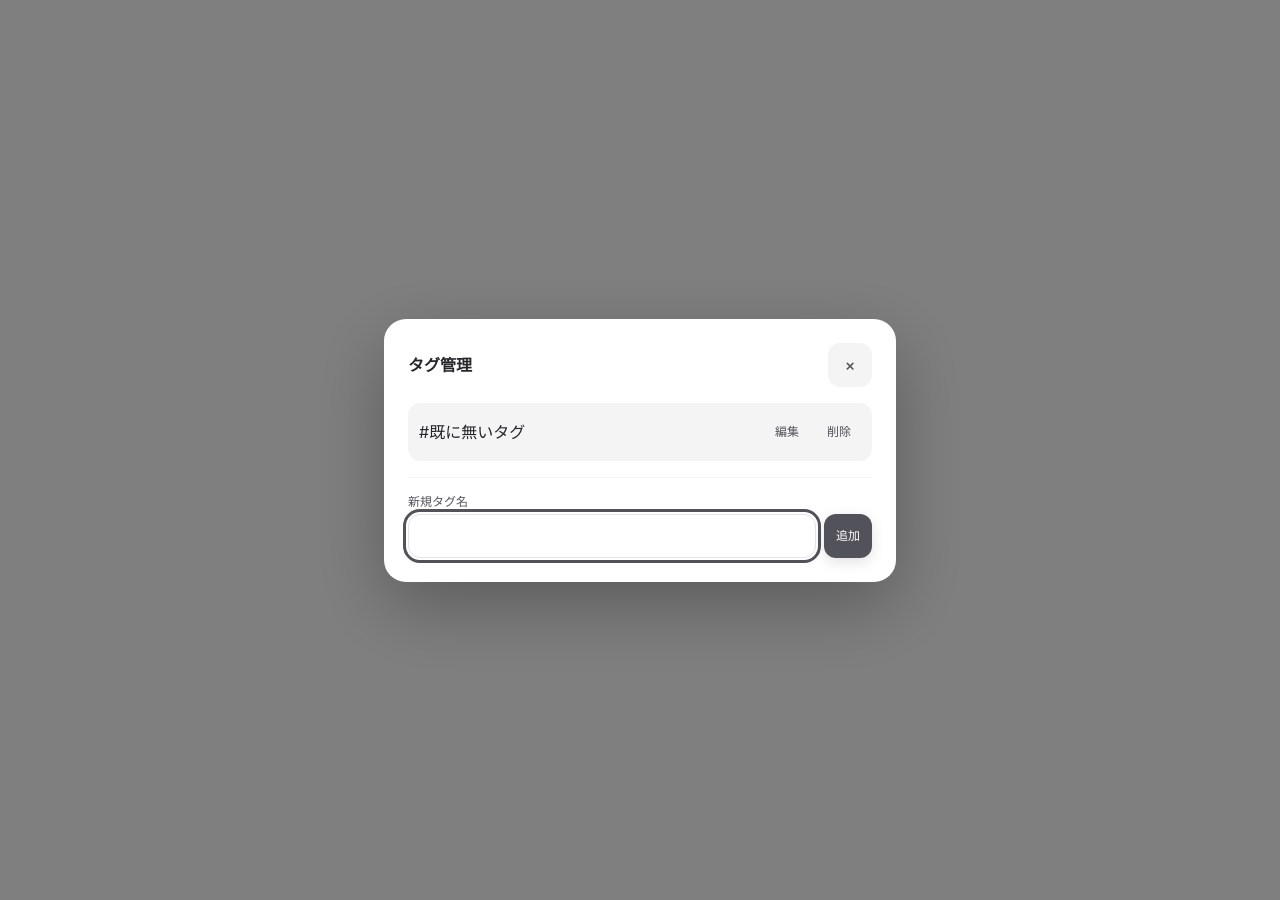
Scenario: TagManagementModal › shows a toast and refetches when the delete target no longer exists (404)
Click the button with aria-label "「既に無いタグ」を削除".
click(839, 432)  # box [817,410,861,454]
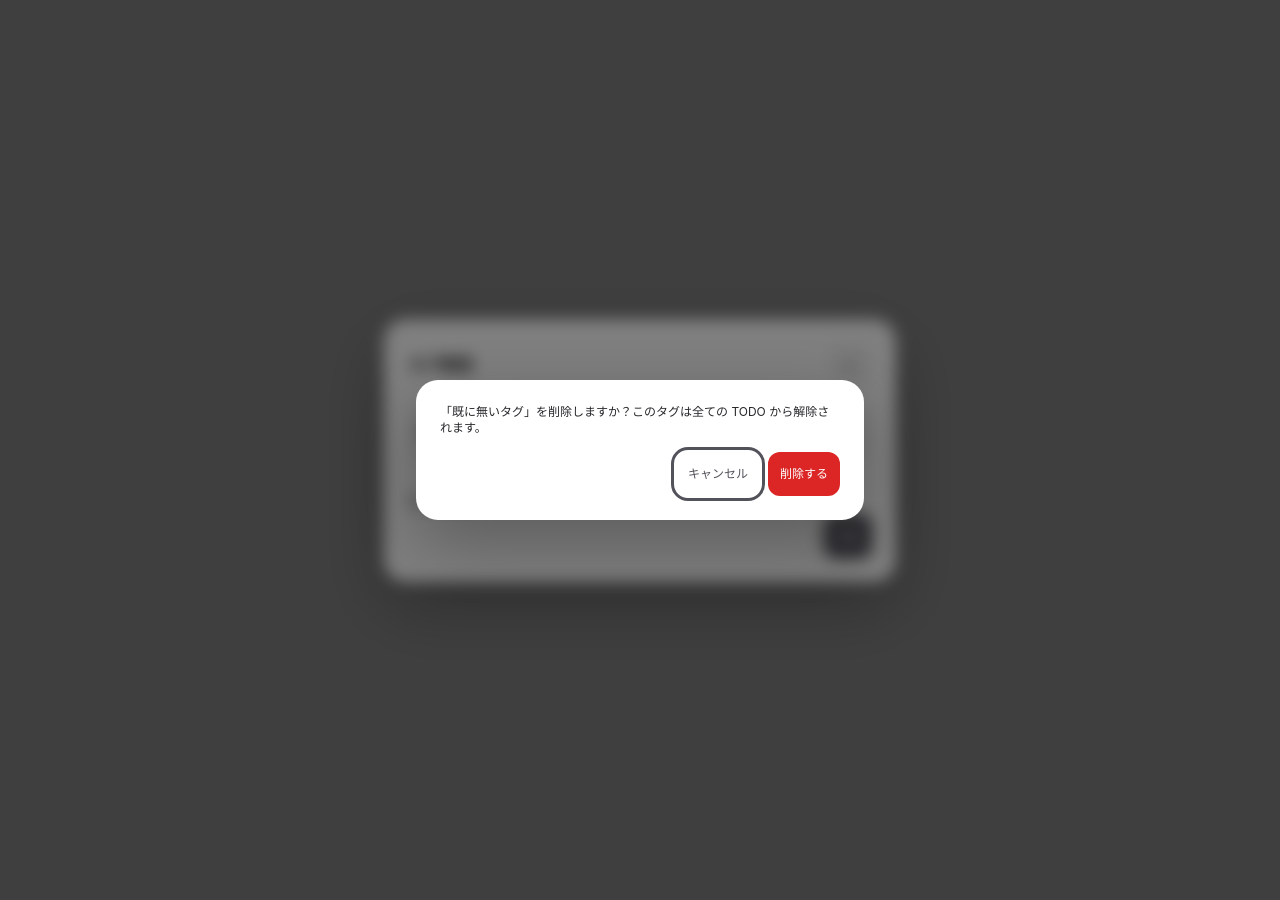
Click the button "削除する".
click(804, 474)  # box [768,452,840,496]
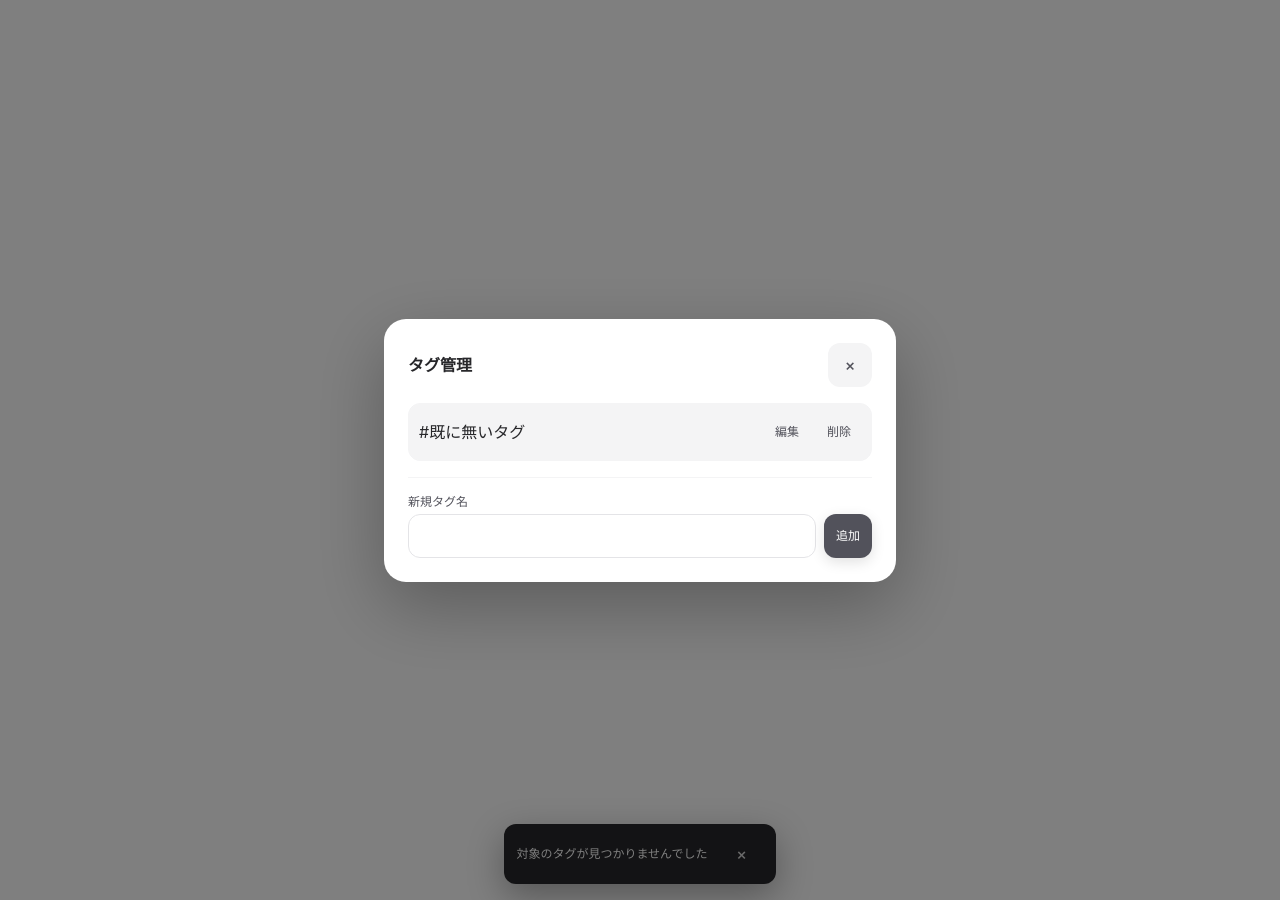
Expected: the text "対象のタグが見つかりませんでした" is shown, [516,846,708,862]
